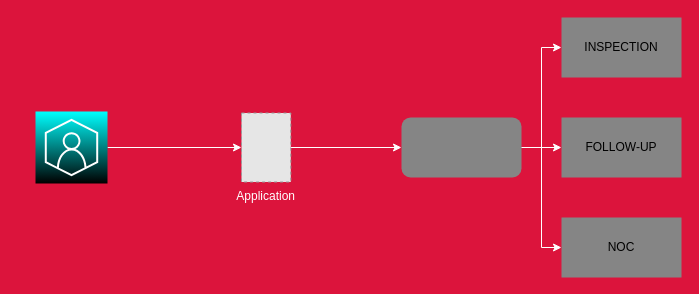
This 699x294 diagram has some shape labels left out. Grey dashed boxes stand in for pictures. Here are the shapes that lost their labels. From the top down, the centre of each, then its label:
At (71,147): "Customer/Business".
At (461,147): "Automated Routing".
